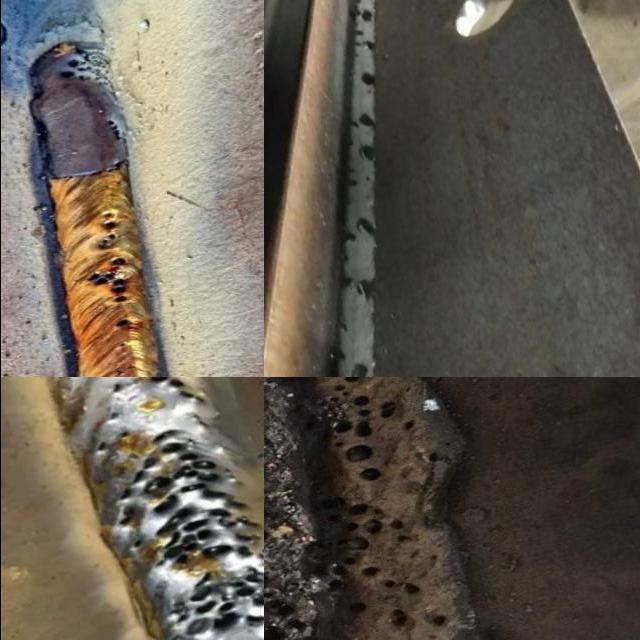defect: (108, 424, 263, 640), (315, 492, 451, 631), (318, 377, 415, 486), (263, 559, 312, 640), (79, 254, 134, 307), (56, 50, 117, 96), (142, 377, 212, 412), (409, 448, 454, 471), (95, 209, 119, 249), (353, 275, 376, 309), (353, 28, 377, 57), (359, 69, 378, 97), (355, 213, 376, 237), (349, 111, 376, 129), (346, 356, 369, 377), (105, 117, 123, 142), (105, 380, 131, 395), (327, 344, 346, 364), (359, 141, 375, 164), (355, 6, 374, 25), (338, 229, 357, 246), (115, 363, 138, 376), (109, 318, 133, 330), (346, 164, 358, 187), (339, 274, 353, 291), (94, 439, 110, 452), (336, 319, 349, 333), (104, 410, 122, 420), (117, 430, 132, 439), (117, 339, 131, 348), (340, 252, 352, 261), (363, 174, 372, 185)
